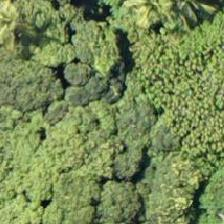coconut_tree: (108, 0, 198, 46), (0, 0, 48, 69)
